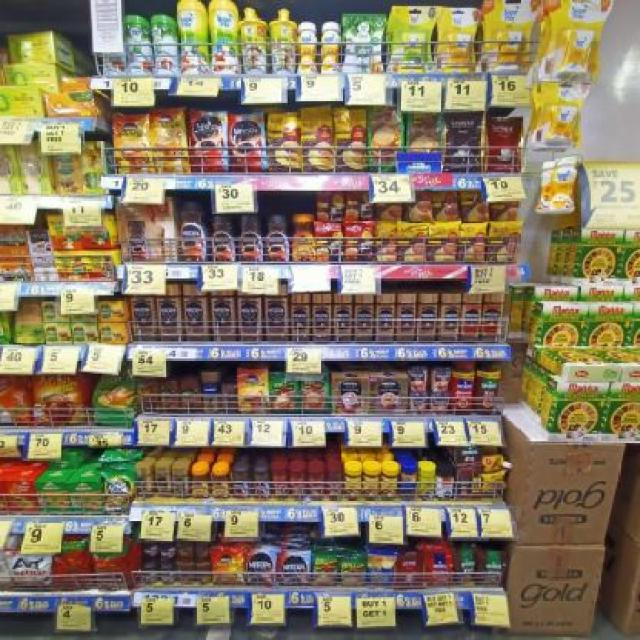Coffee: (190, 114, 228, 171), (150, 112, 186, 172), (230, 114, 266, 172), (115, 117, 148, 174), (180, 201, 210, 262), (184, 285, 210, 341), (211, 285, 237, 341), (130, 285, 156, 341), (157, 284, 181, 342), (238, 286, 262, 342), (265, 285, 289, 341), (238, 369, 268, 413), (292, 215, 316, 262), (239, 216, 263, 262), (212, 216, 236, 262), (265, 216, 289, 262), (212, 549, 243, 583), (246, 550, 276, 584), (376, 293, 395, 344), (280, 553, 311, 584), (418, 293, 437, 342), (333, 294, 352, 343), (312, 295, 331, 342), (398, 294, 416, 343), (355, 294, 373, 343), (440, 295, 458, 342), (292, 295, 310, 342), (190, 468, 208, 498), (211, 469, 229, 498), (156, 466, 172, 497), (173, 467, 189, 498), (233, 469, 249, 498), (253, 469, 269, 498), (137, 468, 151, 498), (158, 570, 176, 584), (141, 545, 157, 558), (159, 546, 175, 559), (140, 568, 155, 580)
